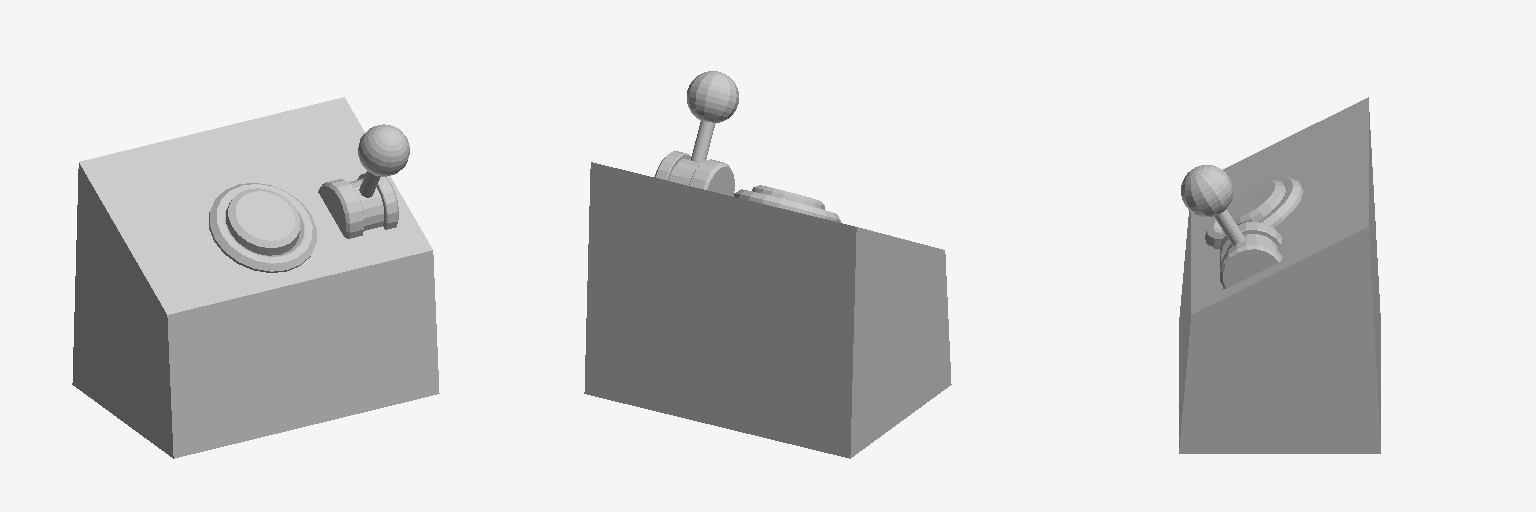
File: Crafting_Console.obj
The picture shows the model from 3 angles: view 1: azimuth 30°, elevation 25°; view 2: azimuth 150°, elevation 25°; view 3: azimuth 270°, elevation 25°; orthographic projection.
Parts seen in each view (by area): view 1: Crafting_Console pCube1, Crafting_Console pCylinder6, Crafting_Console pCylinder7, Crafting_Console pCylinder8, pSphere1 Crafting_Console; view 2: Crafting_Console pCube1, Crafting_Console pCylinder8, pSphere1 Crafting_Console, Crafting_Console pCylinder7, Crafting_Console pCylinder9, Crafting_Console pCylinder6; view 3: Crafting_Console pCube1, Crafting_Console pCylinder8, pSphere1 Crafting_Console, Crafting_Console pCylinder6, Crafting_Console pCylinder7, Crafting_Console pCylinder9.
Part boxes in pixels (bbox=[...]): Crafting_Console pCube1: bbox=[72, 97, 439, 458]; Crafting_Console pCylinder6: bbox=[226, 188, 299, 255]; Crafting_Console pCylinder7: bbox=[209, 183, 316, 272]; Crafting_Console pCylinder8: bbox=[318, 173, 398, 238]; pSphere1 Crafting_Console: bbox=[358, 124, 409, 176]; Crafting_Console pCube1: bbox=[584, 162, 951, 458]; Crafting_Console pCylinder8: bbox=[654, 151, 734, 196]; pSphere1 Crafting_Console: bbox=[687, 71, 738, 122]; Crafting_Console pCylinder7: bbox=[734, 189, 840, 222]; Crafting_Console pCylinder9: bbox=[691, 121, 715, 162]; Crafting_Console pCylinder6: bbox=[752, 185, 824, 209]; Crafting_Console pCube1: bbox=[1179, 97, 1380, 453]; Crafting_Console pCylinder8: bbox=[1220, 222, 1281, 288]; pSphere1 Crafting_Console: bbox=[1181, 165, 1232, 216]; Crafting_Console pCylinder6: bbox=[1222, 180, 1285, 233]; Crafting_Console pCylinder7: bbox=[1205, 177, 1303, 248]; Crafting_Console pCylinder9: bbox=[1214, 209, 1245, 245].
Size of the model in its own units: 1.52 by 1.46 by 1.